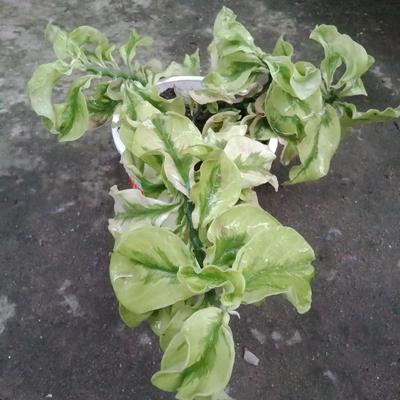Pothos plant: (64, 41, 353, 324)
